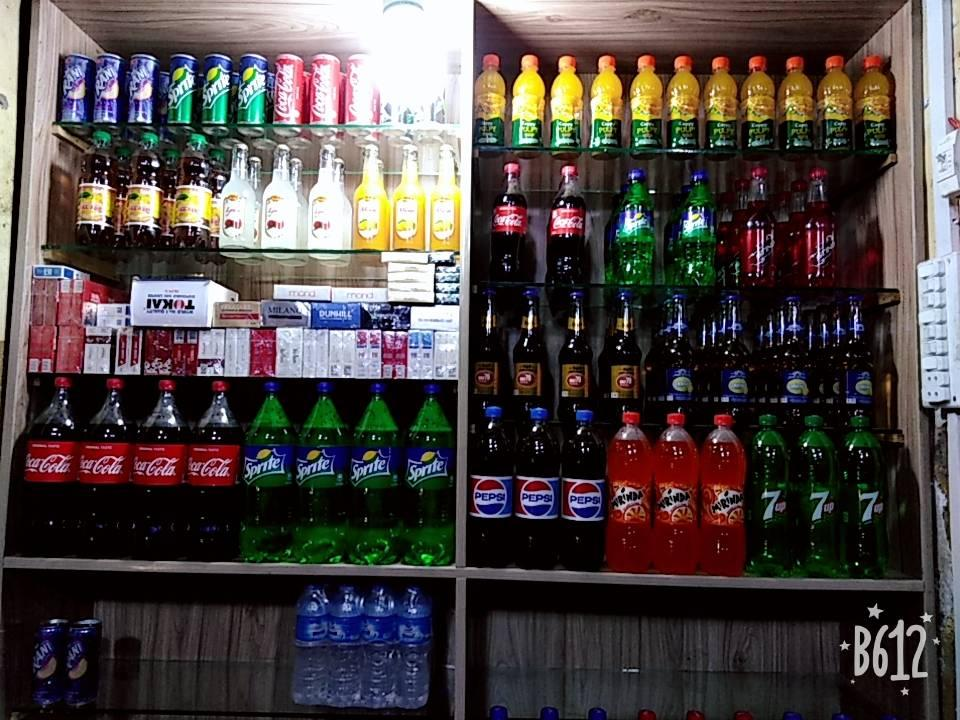7up: (758, 488, 787, 525), (805, 490, 834, 524), (856, 489, 885, 523)
cocacola: (132, 455, 180, 480), (273, 61, 293, 119), (25, 451, 70, 476), (188, 455, 231, 481), (79, 455, 123, 478), (552, 215, 583, 231), (492, 213, 523, 228)
mirinda: (711, 490, 744, 514), (610, 487, 645, 509), (655, 490, 691, 509)
pepsi: (568, 480, 602, 520), (520, 478, 552, 518), (474, 480, 505, 516)
rani: (129, 64, 150, 98), (95, 66, 116, 98), (62, 65, 82, 98), (31, 639, 51, 672)
sprite: (202, 72, 231, 109), (238, 72, 265, 109), (168, 73, 195, 110), (406, 458, 444, 484), (244, 456, 282, 481), (350, 458, 389, 482), (295, 457, 331, 481), (623, 217, 650, 232), (683, 218, 707, 233)
sting: (813, 237, 835, 265), (753, 235, 774, 263)
